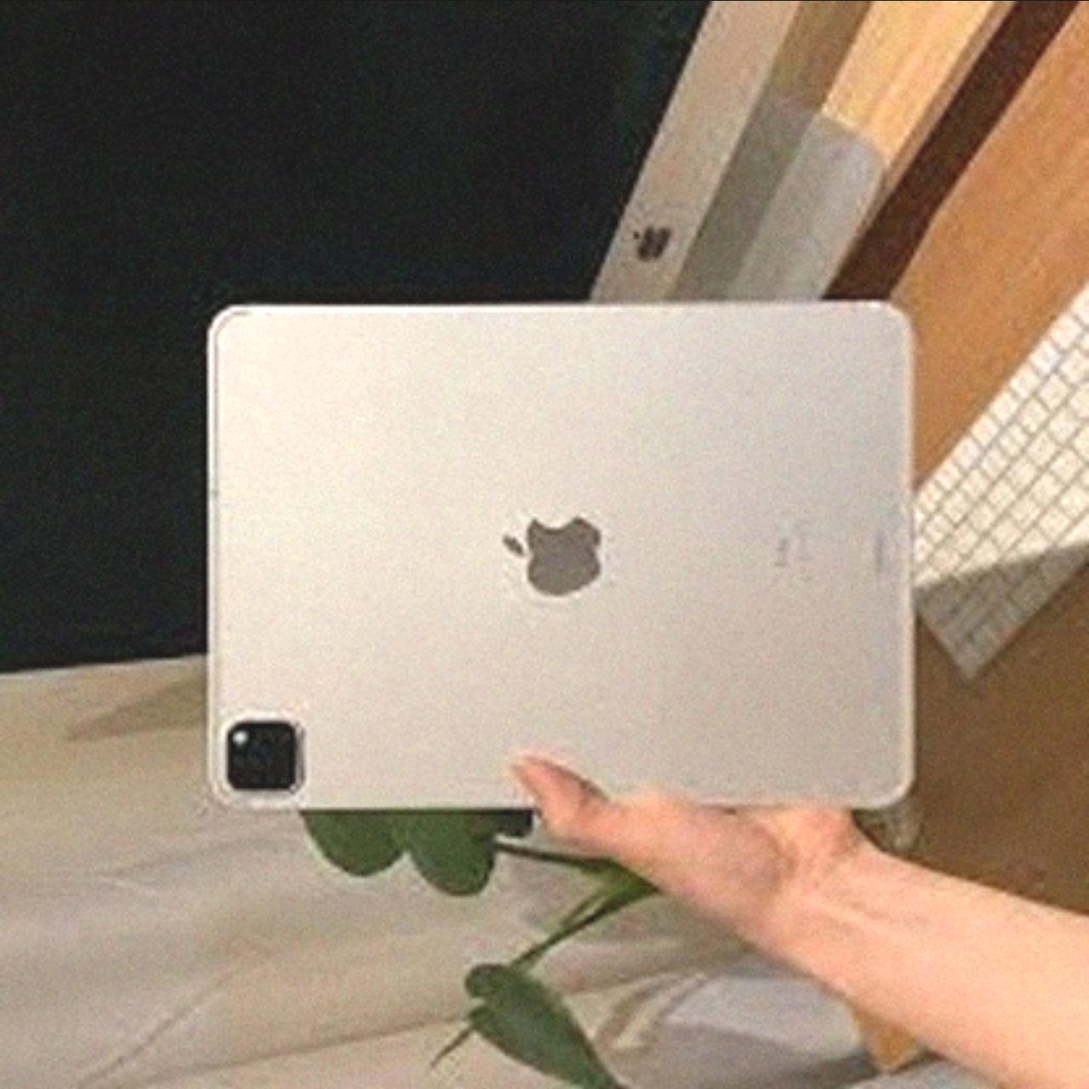Tablet_PC: (194, 283, 916, 821)
